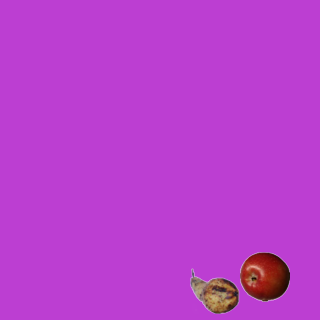Apple Braeburn: (239, 251, 289, 301)
Pear Abate: (189, 266, 239, 316)
